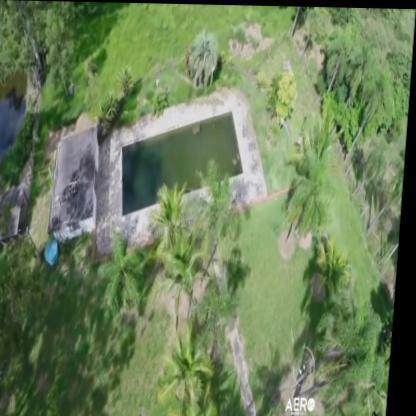agua: (131, 112, 231, 208)
